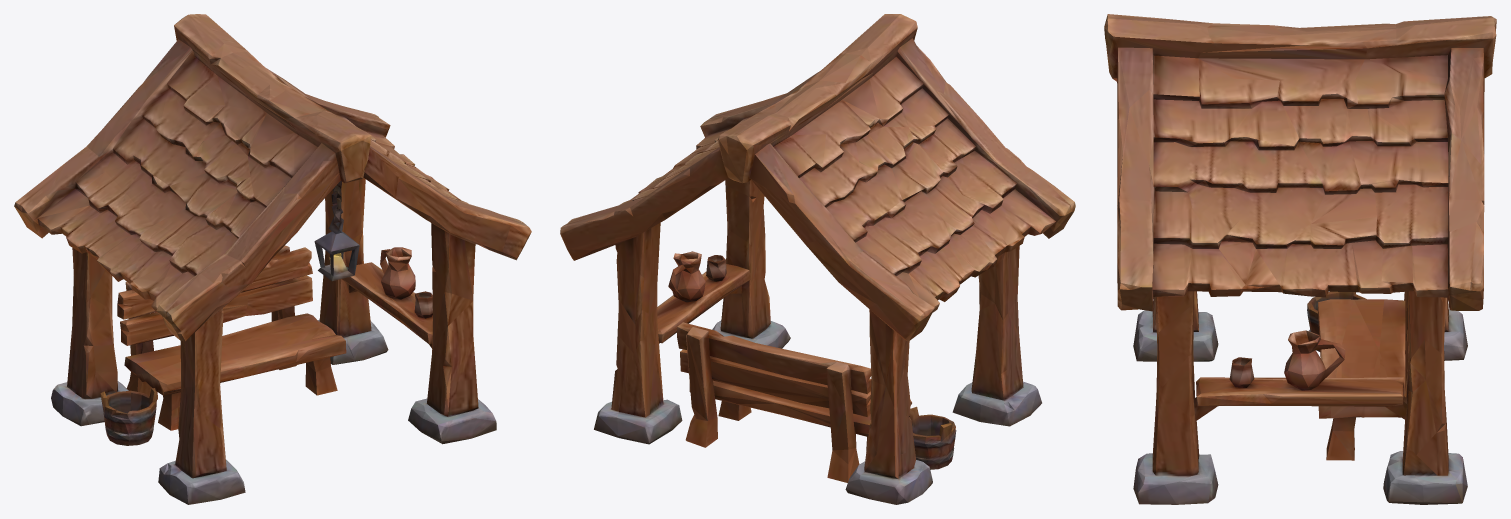
The model's file is oc_shelter.glb.
3 views of the same model, side by side, from view 1: azimuth 30°, elevation 25°; view 2: azimuth 150°, elevation 25°; view 3: azimuth 270°, elevation 25° (orthographic). The views are drawn at different scales.
Parts seen in each view (by area): view 1: W_rest_shelter; view 2: W_rest_shelter; view 3: W_rest_shelter.
Part boxes in pixels (bbox=[...]): W_rest_shelter: bbox=[14, 14, 531, 504]; W_rest_shelter: bbox=[560, 14, 1075, 504]; W_rest_shelter: bbox=[1104, 14, 1496, 504].
Bounding box in the file's own units: 3.4 × 3.06 × 2.73.
1 material, 1 textured.
